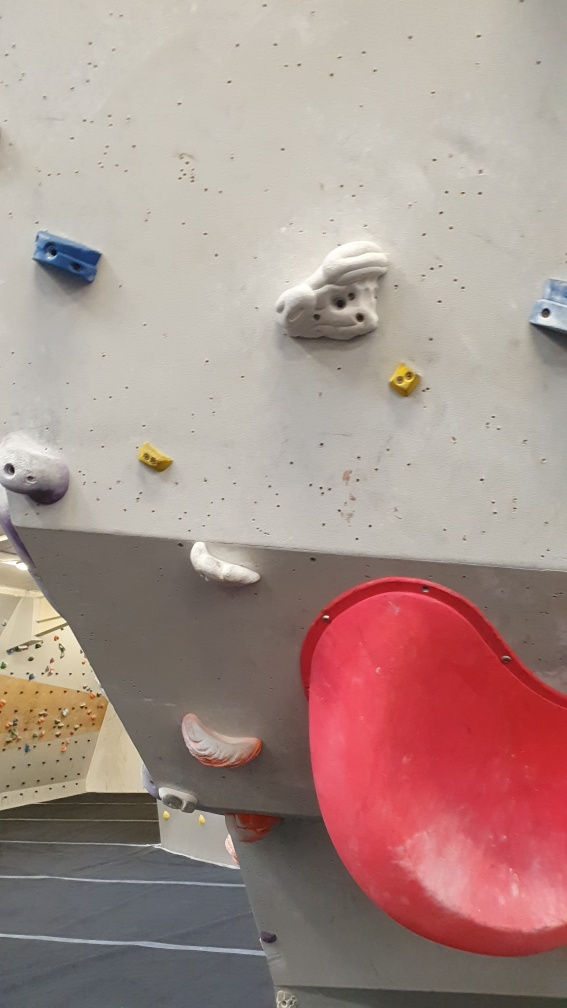Crimp: (136, 437, 181, 474)
Jug: (266, 237, 394, 350), (175, 709, 271, 777), (183, 534, 264, 592)
Pinch: (27, 227, 109, 289), (523, 275, 567, 333), (385, 359, 427, 406)
Sloper: (1, 422, 77, 509)
